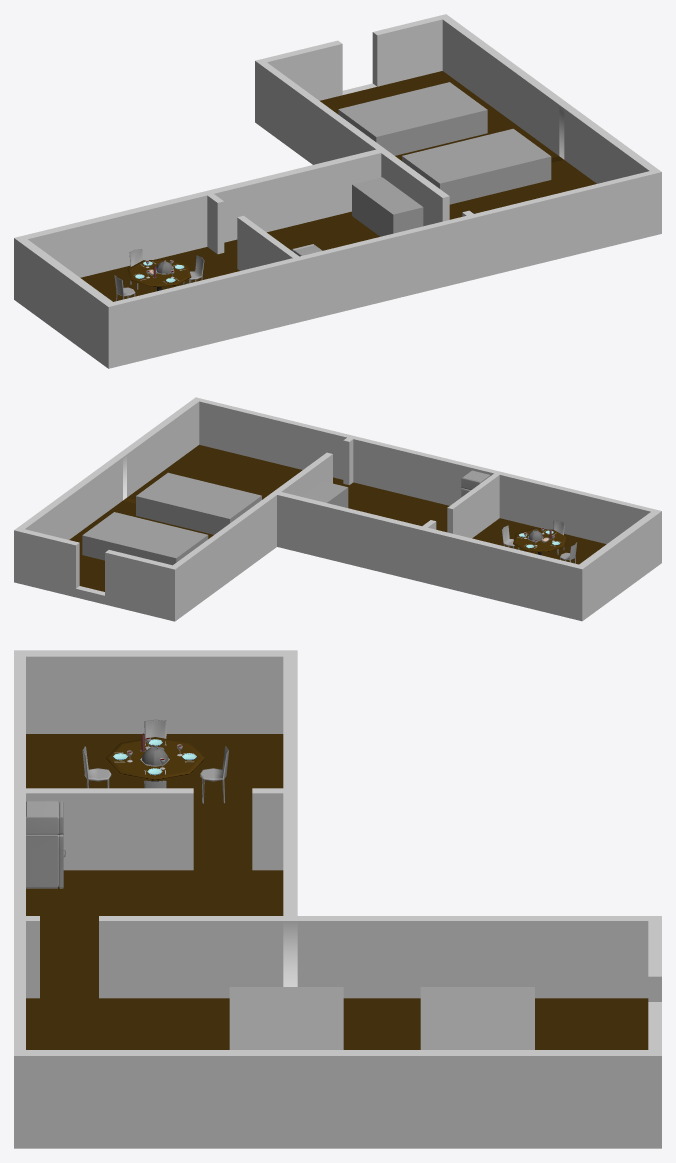
The model's file is level1.fbx.
3 renders of one model, top to bottom at view 1: azimuth 30°, elevation 25°; view 2: azimuth 150°, elevation 25°; view 3: azimuth 270°, elevation 25°, orthographic. The views are drawn at different scales.
Parts seen in each view (by area): view 1: pCube1, pCube5, pCube6, pCube3, ScenesMaccha:pCylinder1; view 2: pCube1, pCube5, pCube6, pCube3, ScenesMaccha:pCylinder1, pCube2; view 3: pCube1, pCube5, pCube6, pCube2, ScenesMaccha:pCylinder1.
Boxes of the visible parts, left/top/right/bottom form: pCube1: left=14, top=14, right=661, bottom=368; pCube5: left=402, top=128, right=551, bottom=204; pCube6: left=338, top=82, right=487, bottom=155; pCube3: left=352, top=177, right=423, bottom=236; ScenesMaccha:pCylinder1: left=127, top=259, right=191, bottom=291; pCube1: left=14, top=397, right=661, bottom=621; pCube5: left=136, top=472, right=261, bottom=534; pCube6: left=82, top=512, right=208, bottom=565; pCube3: left=301, top=481, right=348, bottom=507; ScenesMaccha:pCylinder1: left=513, top=528, right=566, bottom=555; pCube2: left=461, top=470, right=490, bottom=497; pCube1: left=14, top=650, right=661, bottom=1148; pCube5: left=229, top=987, right=343, bottom=1049; pCube6: left=420, top=987, right=534, bottom=1049; pCube2: left=26, top=801, right=65, bottom=888; ScenesMaccha:pCylinder1: left=106, top=737, right=204, bottom=781.
Size of the model in its own units: 17.51 by 1.87 by 11.82.
